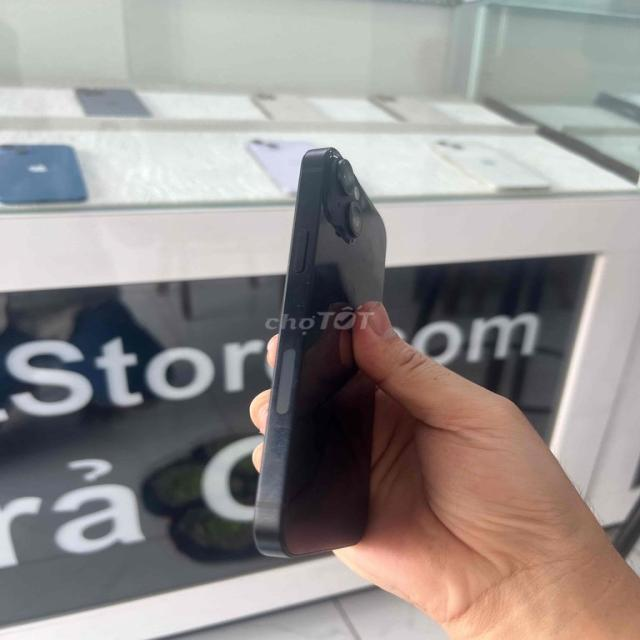gen_14: (240, 140, 405, 561)
scratch: (256, 332, 300, 509), (284, 266, 327, 308)
